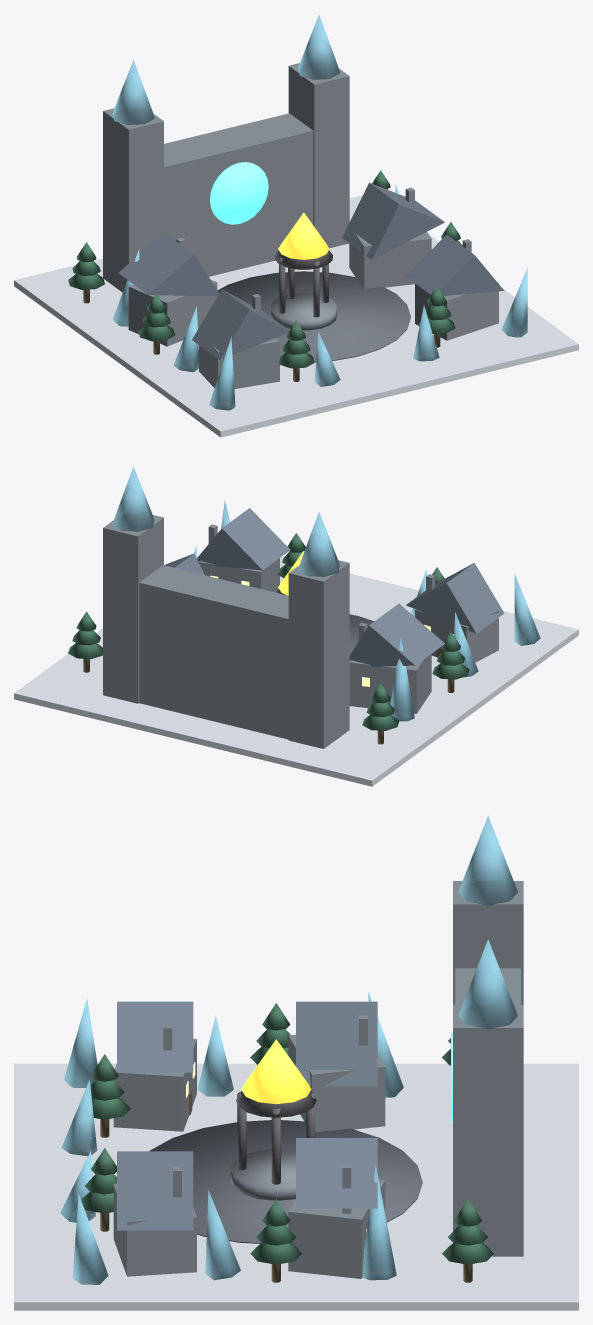
File: devias_boreal.glb
3 renders of one model, top to bottom at view 1: azimuth 30°, elevation 25°; view 2: azimuth 150°, elevation 25°; view 3: azimuth 270°, elevation 25°, orthographic. The views are drawn at different scales.
Visible parts, largest first — view 1: Devias_PermafrostTotal, Devias_GlacialCathedralFacade, Devias_CathedralTower_L, Devias_MeltedCobblestoneRing, Devias_CathedralTower_R, Devias_House_NE_Roof, Devias_House_NW_Roof, Devias_House_SW_Roof, Devias_House_SE_Roof, Devias_House_NE_Walls, Devias_SapphireIceRosette, Devias_House_SW_Walls (+12 smaller); view 2: Devias_PermafrostTotal, Devias_GlacialCathedralFacade, Devias_CathedralTower_L, Devias_CathedralTower_R, Devias_House_NW_Roof, Devias_House_SW_Roof, Devias_House_SE_Roof, Devias_House_NW_Walls, Devias_House_SW_Walls, Devias_IceTowerSpire_R, Devias_IceTowerSpire_L, Devias_House_SE_Walls (+8 smaller); view 3: Devias_PermafrostTotal, Devias_CathedralTower_R, Devias_MeltedCobblestoneRing, Devias_House_NW_Roof, Devias_House_SE_Roof, Devias_House_NE_Roof, Devias_House_SW_Roof, Devias_House_NE_Walls, Devias_CathedralTower_L, Devias_House_SW_Walls, Devias_House_NW_Walls, Devias_House_SE_Walls (+19 smaller).
Part boxes in pixels (x1,y1,x2,y2): Devias_PermafrostTotal: [14, 195, 578, 437]; Devias_GlacialCathedralFacade: [164, 113, 313, 276]; Devias_CathedralTower_L: [103, 108, 163, 292]; Devias_MeltedCobblestoneRing: [217, 271, 410, 362]; Devias_CathedralTower_R: [288, 62, 349, 248]; Devias_House_NE_Roof: [342, 182, 444, 259]; Devias_House_NW_Roof: [118, 232, 219, 296]; Devias_House_SW_Roof: [192, 289, 288, 360]; Devias_House_SE_Roof: [406, 234, 504, 295]; Devias_House_NE_Walls: [349, 232, 431, 288]; Devias_SapphireIceRosette: [210, 162, 268, 224]; Devias_House_SW_Walls: [199, 338, 279, 388]; Devias_PermafrostTotal: [14, 557, 578, 786]; Devias_GlacialCathedralFacade: [139, 565, 288, 739]; Devias_CathedralTower_L: [288, 560, 349, 748]; Devias_CathedralTower_R: [103, 514, 163, 703]; Devias_House_NW_Roof: [349, 603, 444, 666]; Devias_House_SW_Roof: [406, 563, 504, 633]; Devias_House_SE_Roof: [197, 508, 290, 570]; Devias_House_NW_Walls: [349, 654, 431, 713]; Devias_House_SW_Walls: [415, 609, 498, 662]; Devias_IceTowerSpire_R: [112, 466, 154, 531]; Devias_IceTowerSpire_L: [298, 512, 340, 576]; Devias_House_SE_Walls: [199, 558, 279, 592]; Devias_PermafrostTotal: [14, 1063, 578, 1310]; Devias_CathedralTower_R: [453, 1004, 523, 1256]; Devias_MeltedCobblestoneRing: [149, 1120, 422, 1243]; Devias_House_NW_Roof: [296, 1001, 377, 1086]; Devias_House_SE_Roof: [117, 1151, 193, 1230]; Devias_House_NE_Roof: [296, 1138, 377, 1208]; Devias_House_SW_Roof: [117, 1001, 193, 1072]; Devias_House_NE_Walls: [288, 1179, 385, 1278]; Devias_CathedralTower_L: [453, 881, 523, 1004]; Devias_House_SW_Walls: [113, 1038, 196, 1131]; Devias_House_NW_Walls: [288, 1034, 385, 1132]; Devias_House_SE_Walls: [113, 1183, 196, 1276].
Size of the model in its own units: 56 by 34.35 by 56.
